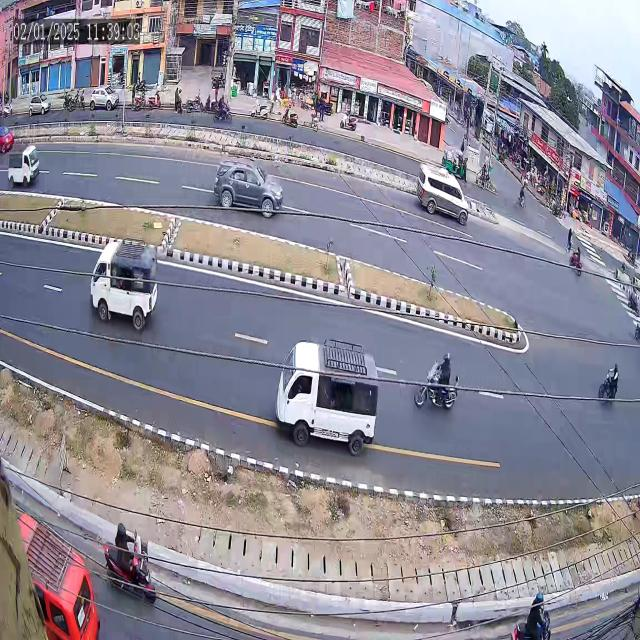car: (200, 147, 294, 247)
motorcycle: (103, 502, 174, 602), (410, 332, 470, 426), (594, 334, 622, 414), (564, 245, 584, 279)
van: (273, 319, 382, 472), (5, 483, 102, 640), (74, 224, 167, 340), (411, 153, 473, 254), (3, 140, 42, 197)
